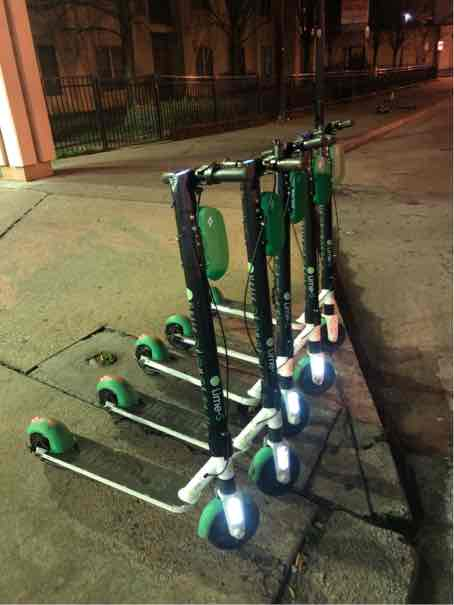too close: (298, 294, 370, 360)
